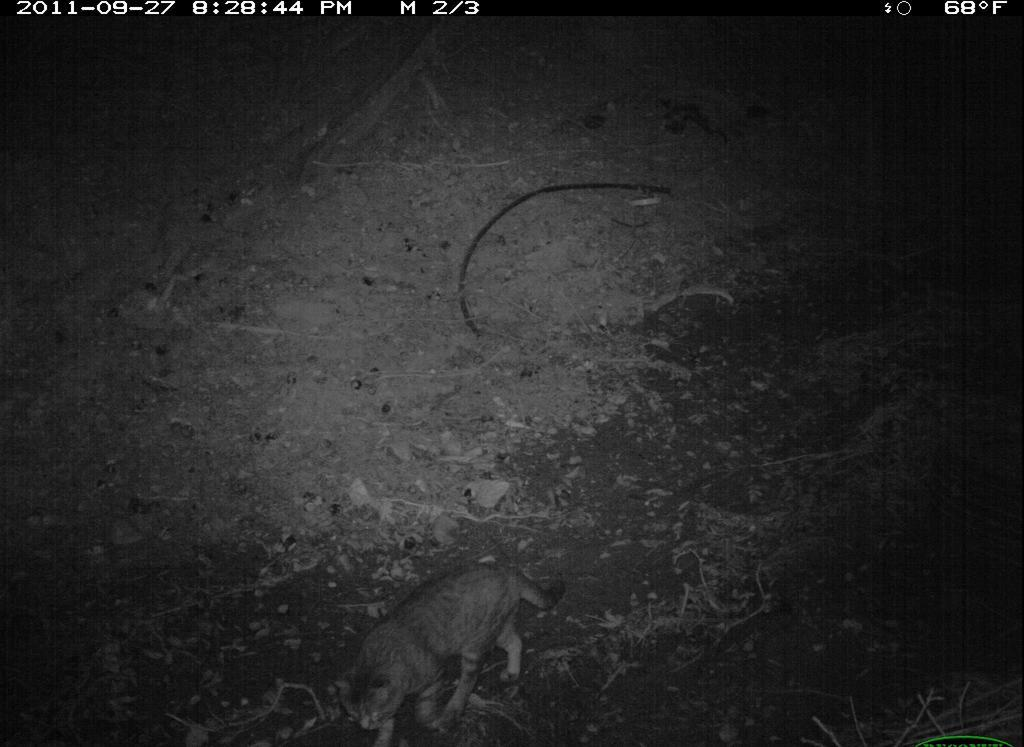cat: (331, 550, 575, 747)
